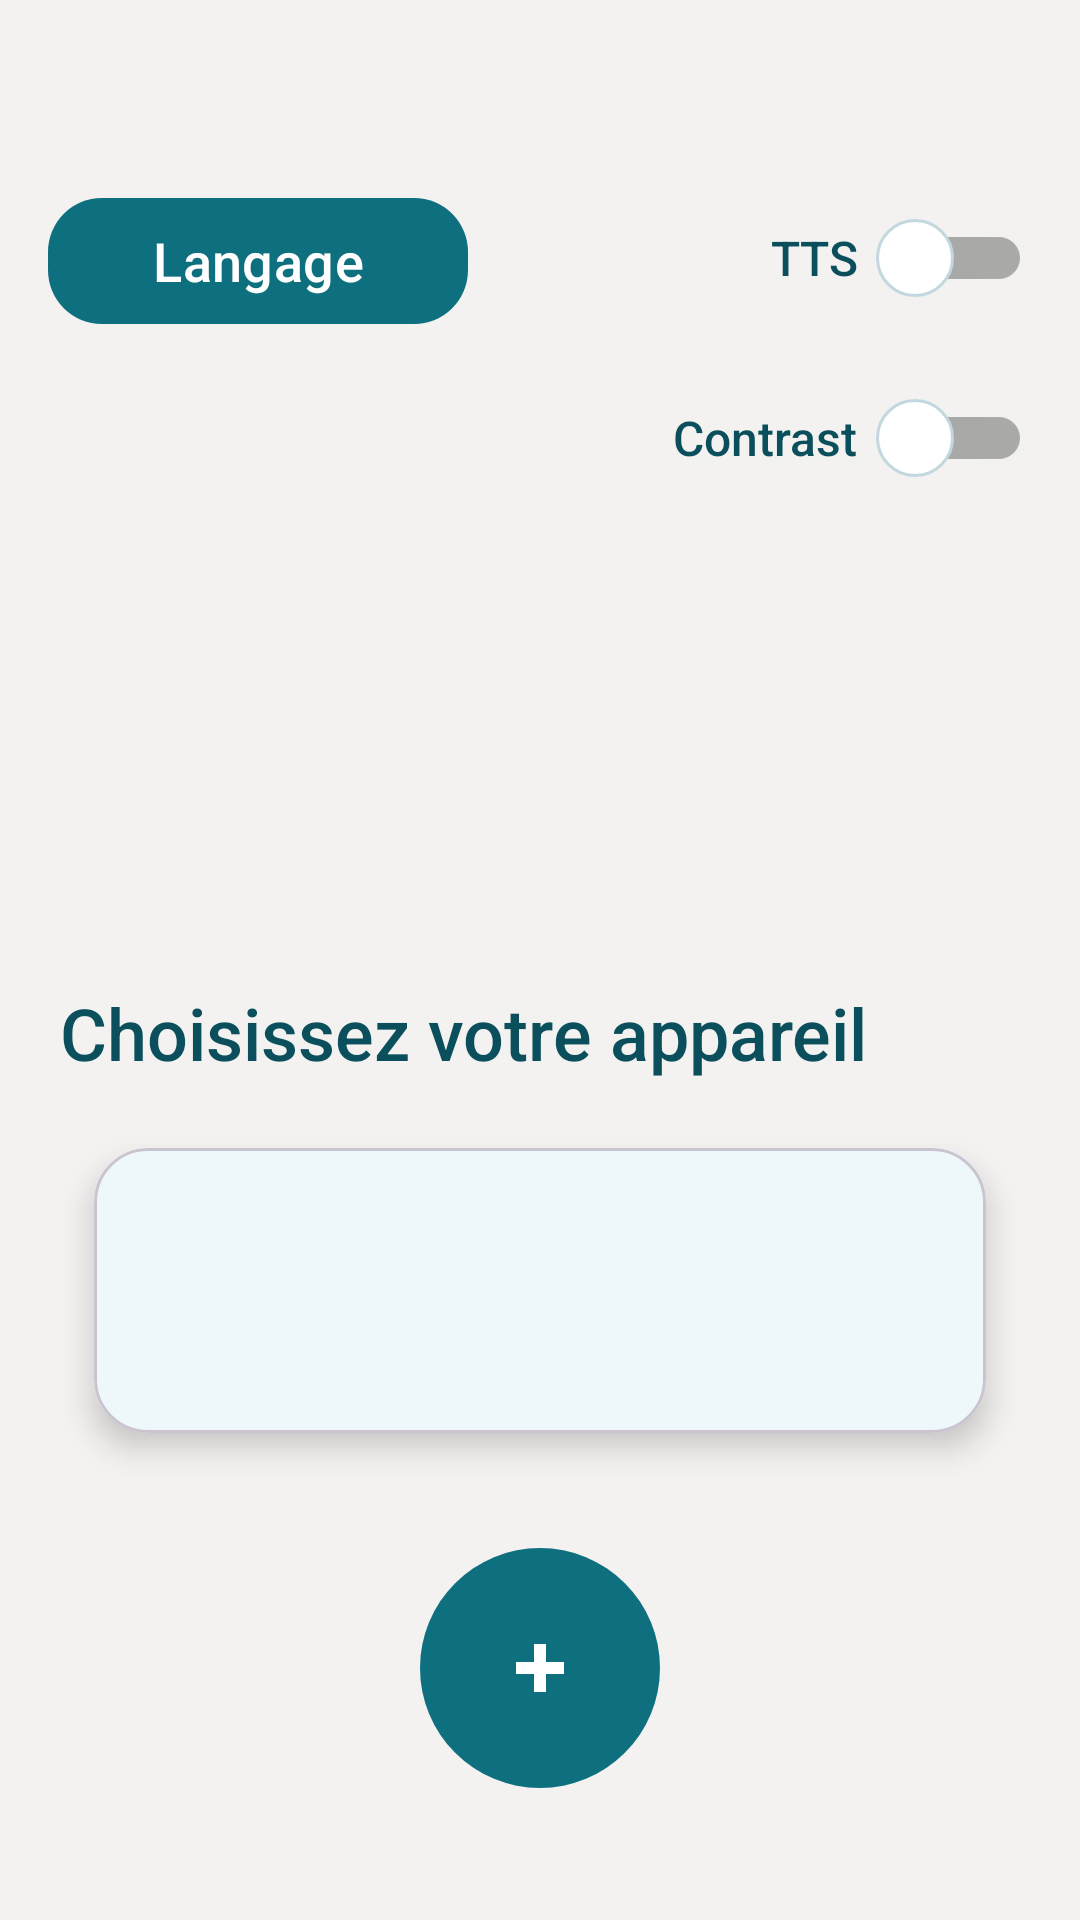

Point at icon controls on the screen. Image size 1080 × 1920, points as point (x, y).
Ajouter: point (540, 1668)
